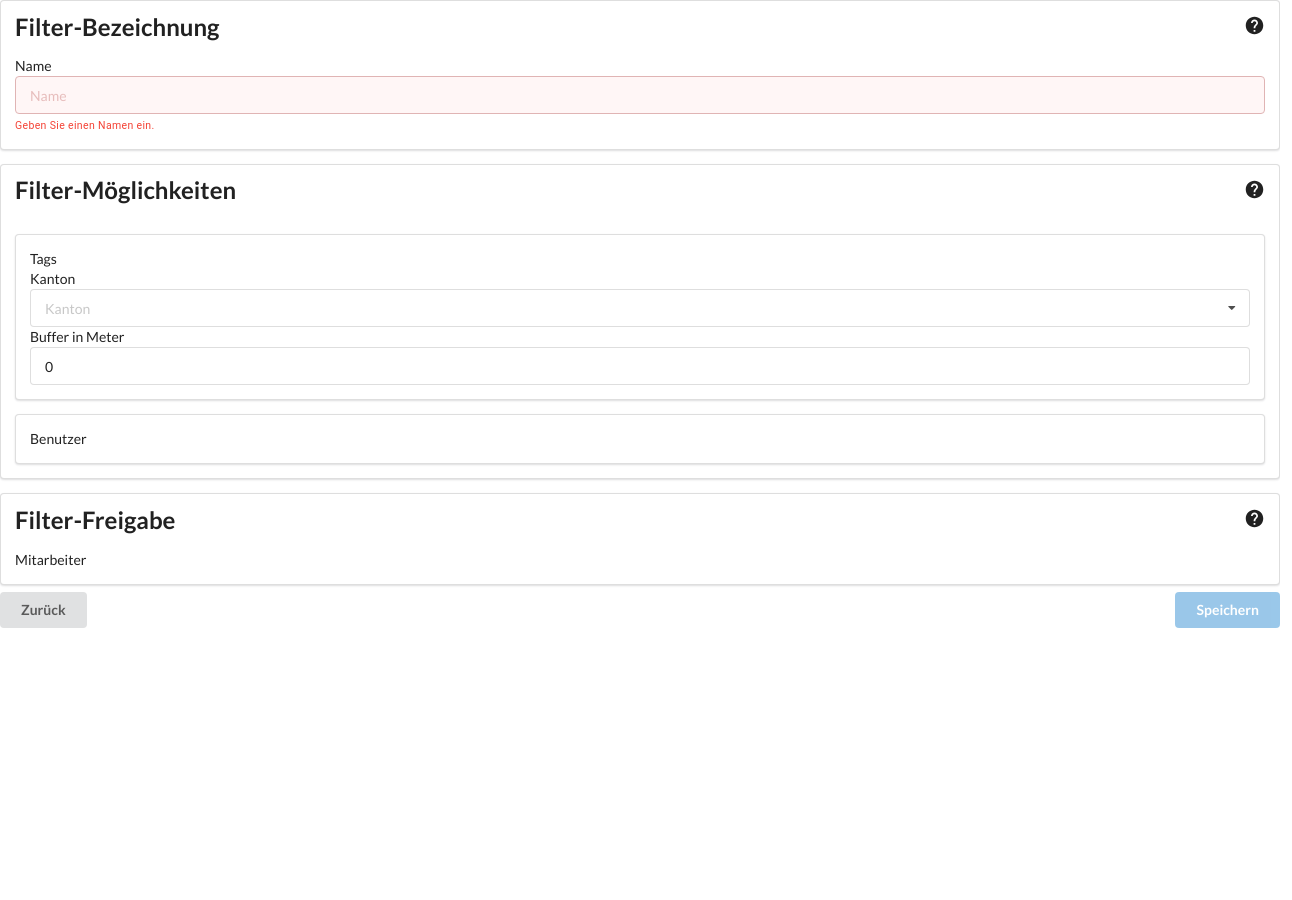
Test: <NewFilter> › input name validation
Type "Filter1" into the field labelled "Name Geben Sie einen Namen ein." at (640, 95), box x1=15 y1=76 x2=1265 y2=114
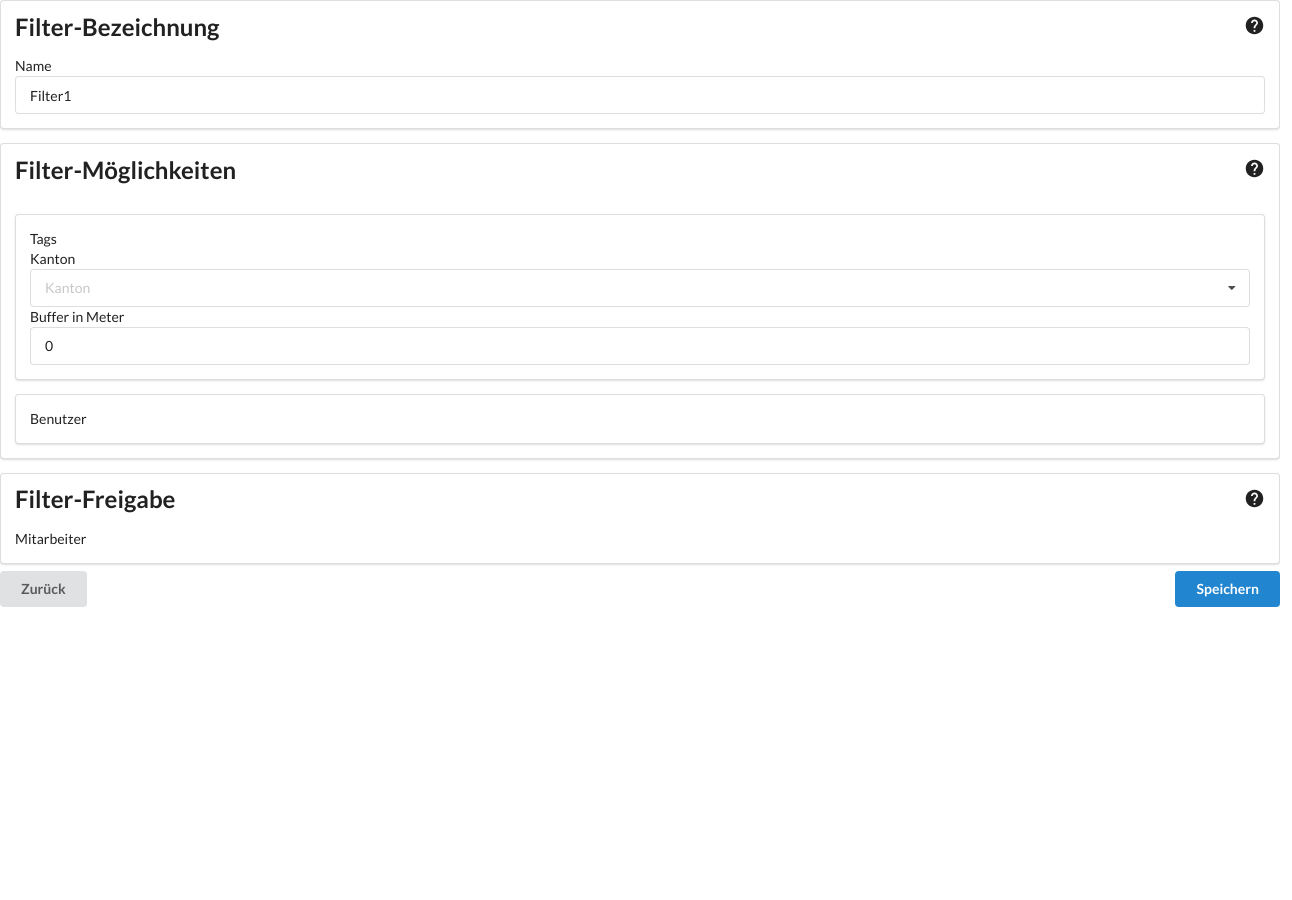
Now the text "Geben Sie einen Namen ein." is gone
